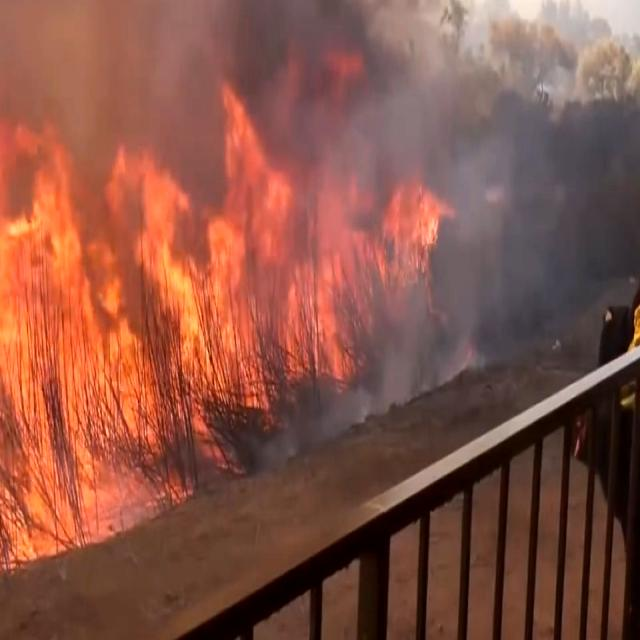fire: (175, 60, 384, 389), (0, 74, 147, 516)
